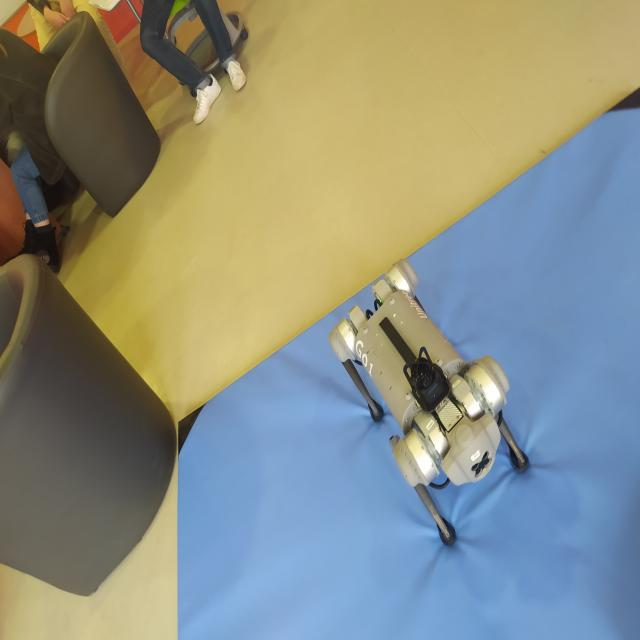unitree-go1-robot: (325, 258, 538, 562)
